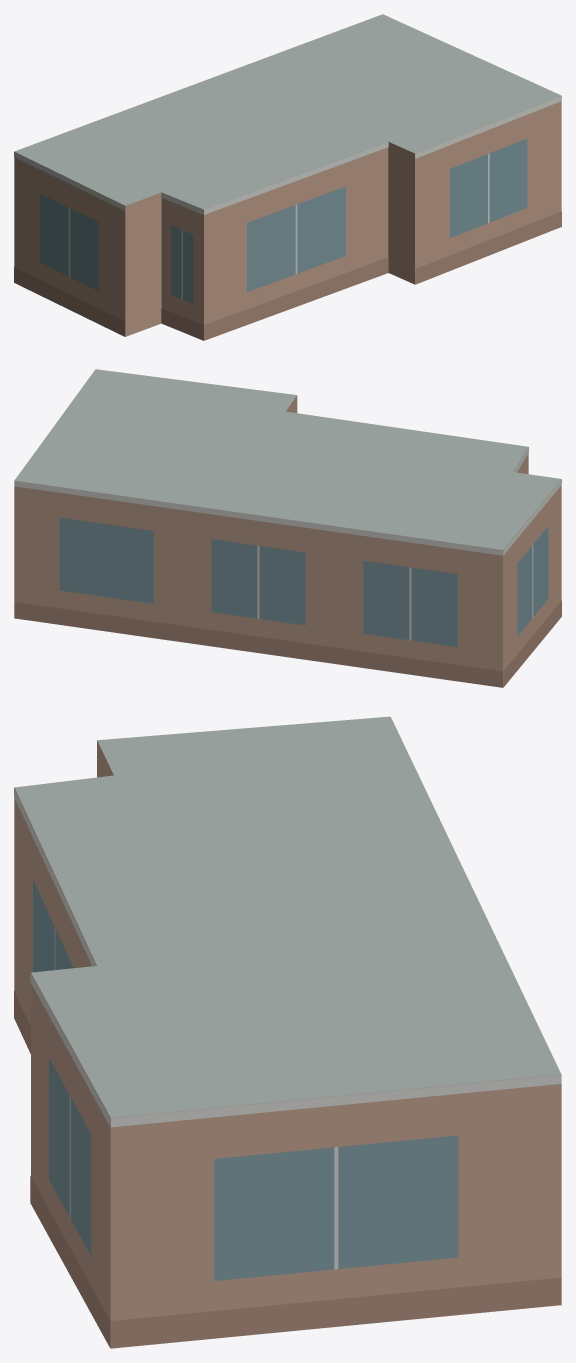
Rendered from survey-upis-32723739.glb.
3 renders of one model, top to bottom at view 1: azimuth 30°, elevation 25°; view 2: azimuth 150°, elevation 25°; view 3: azimuth 270°, elevation 25°, orthographic. The views are drawn at different scales.
Visible parts, largest first — view 1: survey-upis-32723739.tmp; view 2: survey-upis-32723739.tmp; view 3: survey-upis-32723739.tmp.
Boxes of the visible parts, x1,y1,x2,y2 form: survey-upis-32723739.tmp: (14, 14, 561, 340); survey-upis-32723739.tmp: (14, 369, 561, 687); survey-upis-32723739.tmp: (14, 716, 561, 1348).
Bounding box in the file's own units: 11.4 × 3.05 × 6.57.
